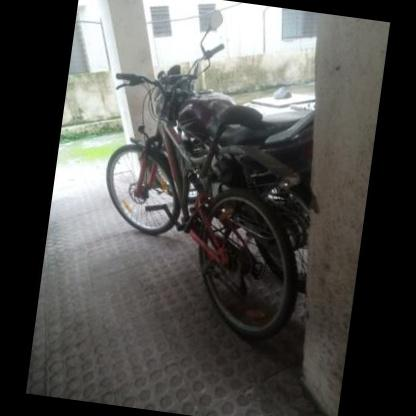Bicycle: (89, 75, 314, 349)
